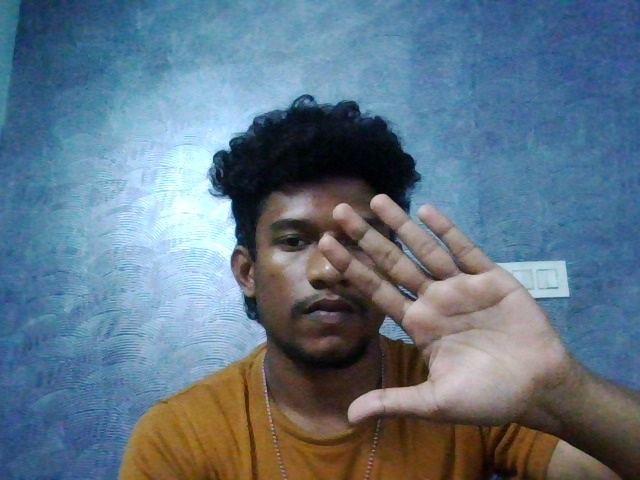hello: (325, 189, 595, 436)
